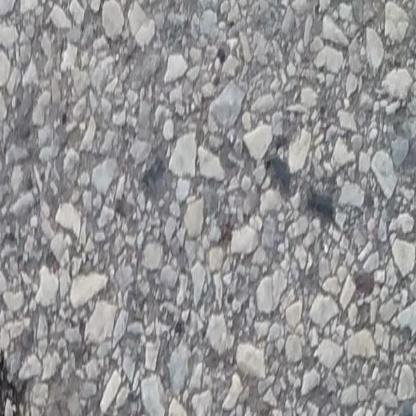Cracks: (0, 290, 43, 416)
